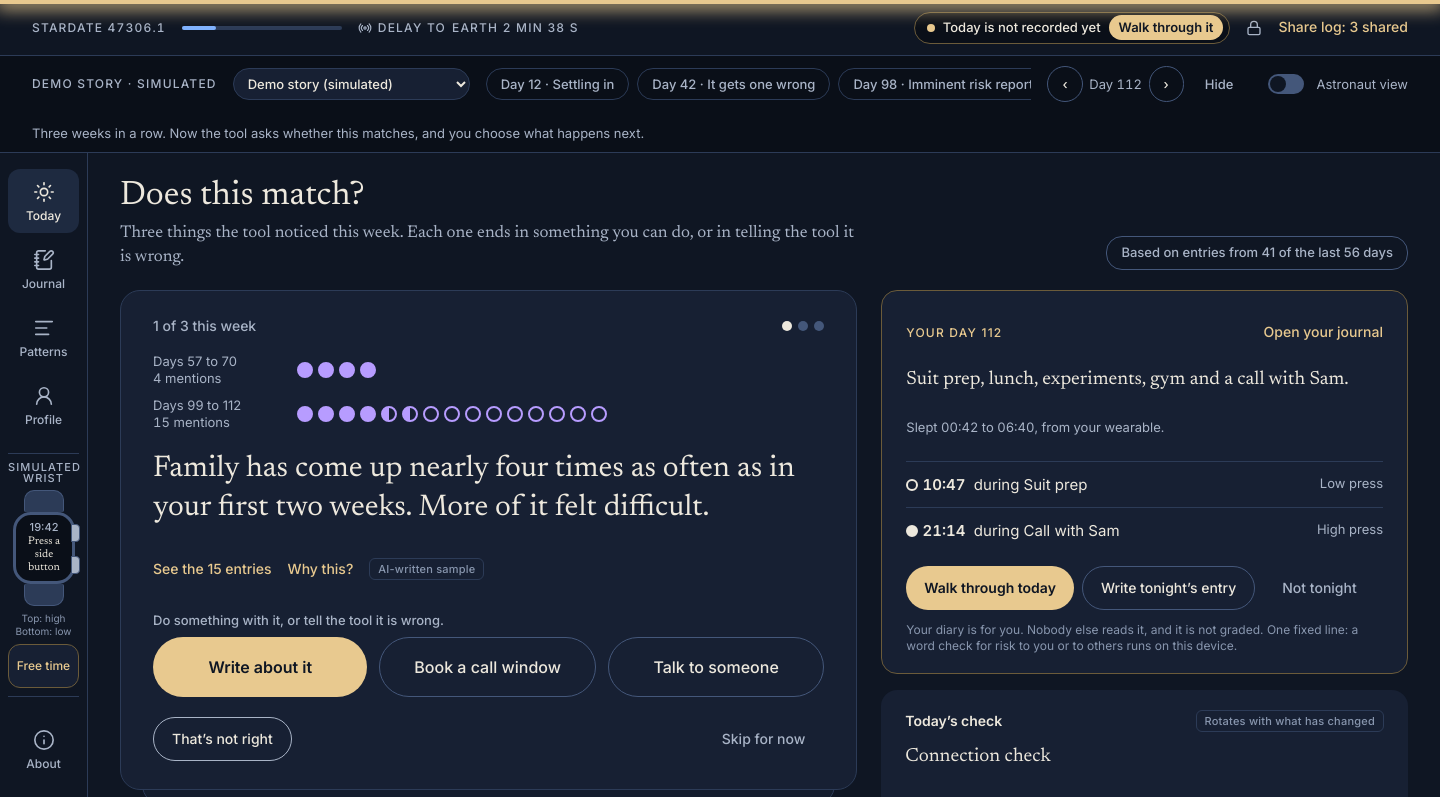
Test: day 112: talk to someone writes to the share log
Click the button "Talk to someone". click: click(716, 667)
box: [608,637,824,697]
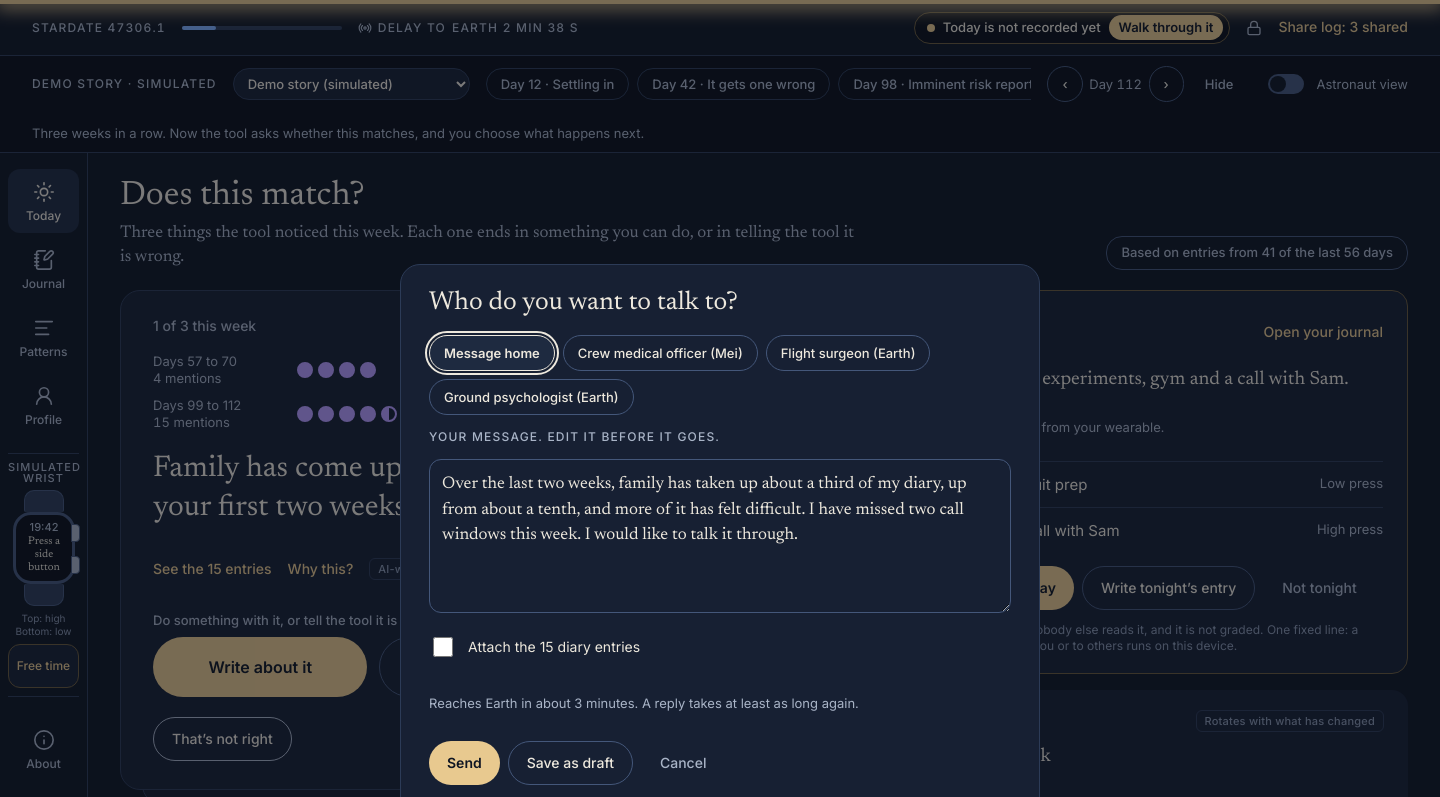
Click the button "Send". click: click(464, 763)
box: [429,741,500,785]
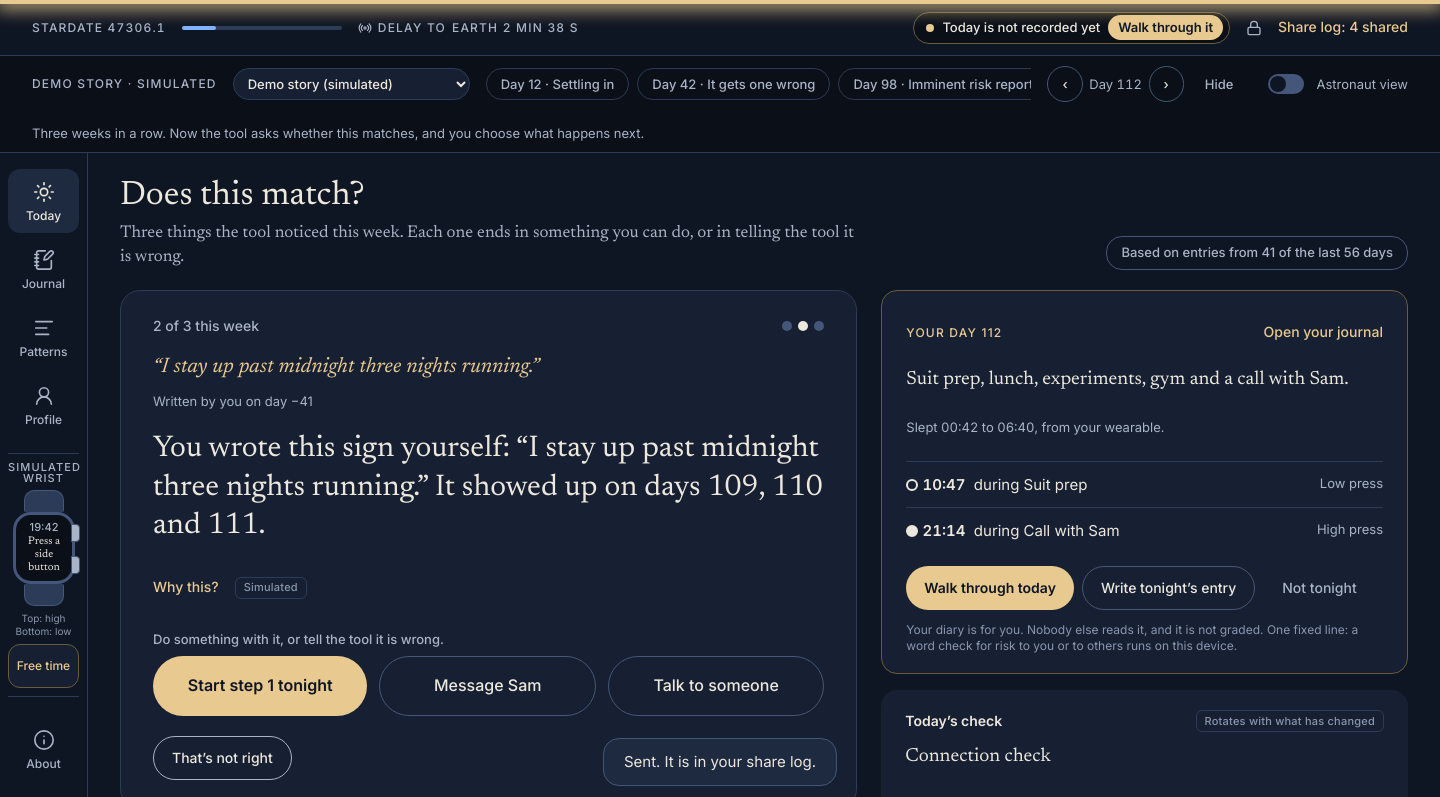
Expected: the link "Share log: 4 shared" is shown, [1278,18,1408,35]
